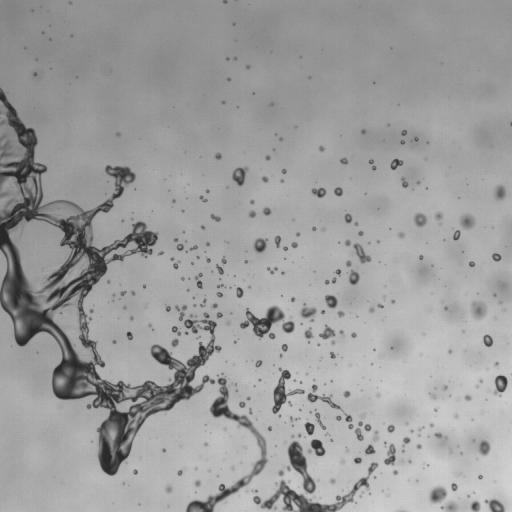droplet: (253, 441, 378, 511), (240, 305, 294, 339), (272, 368, 304, 413), (429, 486, 457, 511), (354, 421, 371, 440), (307, 439, 325, 456), (470, 301, 486, 320), (493, 374, 507, 395), (232, 167, 248, 185), (300, 304, 316, 321), (484, 499, 505, 511), (318, 325, 335, 339), (460, 214, 474, 229), (253, 238, 267, 252), (478, 440, 490, 455), (494, 185, 505, 200), (414, 213, 426, 226), (325, 295, 337, 308), (349, 270, 359, 284), (390, 159, 403, 169), (304, 422, 314, 435), (312, 188, 326, 197), (470, 500, 480, 511), (483, 334, 492, 346), (365, 444, 375, 454), (304, 328, 312, 340), (171, 326, 181, 335), (235, 287, 243, 297), (334, 187, 342, 196), (492, 253, 501, 261), (402, 437, 410, 446), (210, 214, 220, 221), (453, 230, 460, 240), (274, 235, 280, 246), (344, 214, 351, 223), (216, 265, 223, 274), (401, 177, 407, 187), (263, 207, 270, 215), (435, 212, 442, 220), (171, 338, 178, 346), (387, 424, 394, 432), (268, 268, 276, 274), (126, 331, 132, 339), (353, 457, 361, 463), (340, 158, 347, 164), (249, 210, 255, 217), (176, 244, 183, 250), (173, 261, 179, 268), (281, 344, 287, 351), (255, 360, 261, 367), (343, 391, 350, 397), (429, 393, 436, 399), (451, 483, 457, 490), (165, 486, 172, 492), (215, 153, 221, 159), (262, 176, 268, 182), (200, 196, 206, 202), (398, 232, 404, 238), (338, 311, 344, 317), (216, 312, 222, 318), (239, 401, 245, 407), (194, 480, 200, 486), (190, 245, 197, 250), (464, 395, 471, 400), (291, 242, 297, 247), (221, 257, 226, 263), (346, 260, 351, 266), (469, 261, 475, 266), (335, 269, 340, 275), (165, 305, 170, 311), (339, 330, 344, 336), (330, 352, 335, 358), (401, 130, 406, 135), (319, 146, 324, 151), (265, 155, 270, 160), (345, 240, 350, 245), (217, 292, 222, 297), (212, 303, 217, 308), (369, 307, 374, 312), (177, 470, 182, 475), (330, 478, 335, 483), (218, 283, 224, 287), (281, 169, 286, 173), (358, 231, 363, 235), (158, 251, 163, 255), (206, 257, 210, 262), (120, 291, 125, 295), (226, 320, 230, 325), (351, 333, 356, 337), (336, 416, 341, 420), (416, 444, 421, 448), (133, 469, 137, 474), (251, 489, 257, 492), (361, 129, 365, 133), (414, 137, 418, 141), (250, 200, 254, 204), (283, 246, 287, 250), (419, 255, 423, 259), (290, 297, 294, 301), (331, 340, 335, 344), (246, 396, 250, 400), (429, 423, 433, 427), (393, 470, 397, 474), (478, 475, 482, 479), (401, 140, 404, 144), (296, 232, 299, 236), (206, 242, 209, 246), (131, 291, 135, 294), (378, 304, 382, 307), (495, 362, 498, 366), (444, 385, 447, 389), (249, 409, 252, 413), (454, 415, 458, 418), (268, 426, 271, 430), (419, 427, 423, 430), (223, 0, 226, 3), (246, 65, 249, 68), (206, 189, 209, 192), (172, 199, 175, 202), (355, 222, 358, 225), (201, 226, 204, 229), (312, 227, 315, 230), (174, 238, 177, 241), (171, 257, 174, 260), (391, 300, 394, 303), (90, 309, 93, 312), (321, 310, 324, 313), (479, 379, 482, 382), (434, 408, 437, 411), (204, 442, 207, 445), (231, 466, 234, 469), (227, 78, 230, 80), (117, 132, 119, 135), (444, 307, 447, 309), (130, 317, 133, 319), (148, 324, 151, 326), (185, 331, 187, 334), (113, 340, 115, 343), (448, 350, 451, 352), (361, 415, 364, 417), (298, 434, 301, 436), (162, 449, 165, 451), (402, 448, 404, 451), (341, 460, 344, 462), (408, 460, 411, 462), (34, 73, 36, 75), (281, 180, 283, 182), (377, 394, 379, 396), (410, 430, 412, 432), (400, 459, 402, 461)
ligament: (0, 88, 267, 511), (307, 384, 342, 411), (353, 243, 371, 263), (384, 444, 395, 465), (315, 412, 325, 429), (345, 414, 353, 429), (195, 273, 202, 288), (435, 433, 447, 439), (325, 277, 335, 284), (369, 159, 375, 169), (373, 430, 378, 441), (201, 299, 206, 307), (290, 417, 298, 421), (0, 192, 7, 196), (397, 510, 406, 511)
